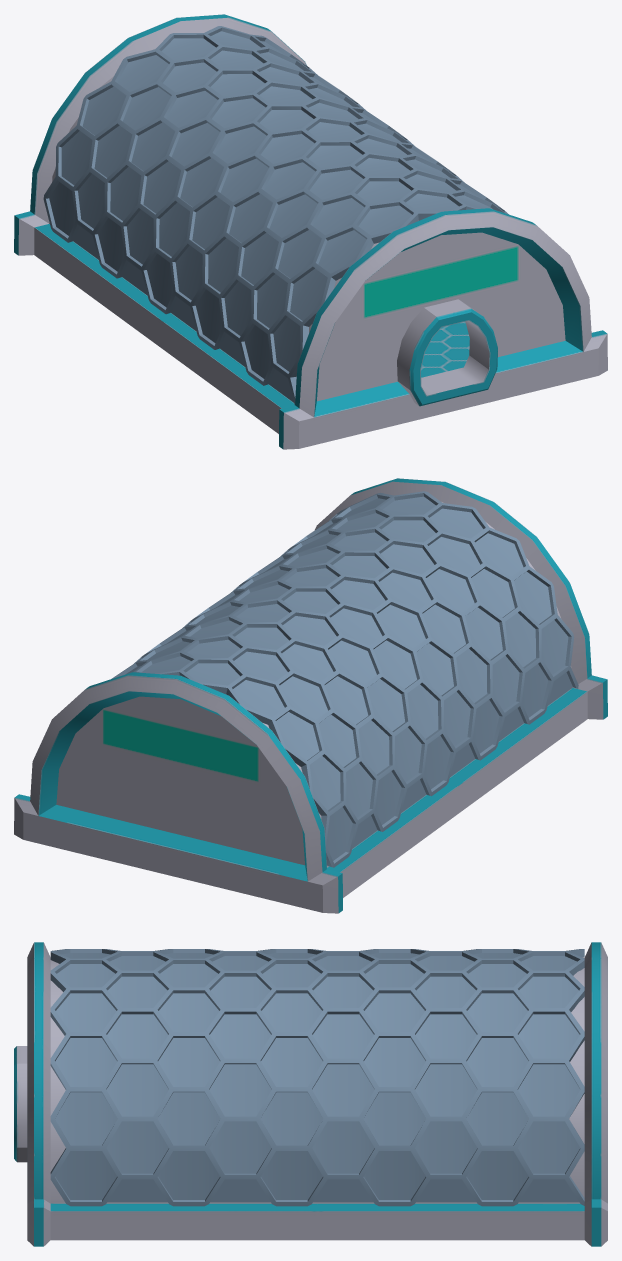
3 views of the same model, one above another, from view 1: azimuth 30°, elevation 25°; view 2: azimuth 150°, elevation 25°; view 3: azimuth 270°, elevation 25° (orthographic). The views are drawn at different scales.
Visible parts, largest first — view 1: angar_laboratory; view 2: angar_laboratory; view 3: angar_laboratory.
Boxes of the visible parts, <box> form: angar_laboratory: <box>14,14,607,449</box>; angar_laboratory: <box>14,478,607,913</box>; angar_laboratory: <box>14,942,607,1246</box>.
Bounding box in the file's own units: 4.26 × 2.44 × 6.41.
Materials: 1 (1 with a texture image).
